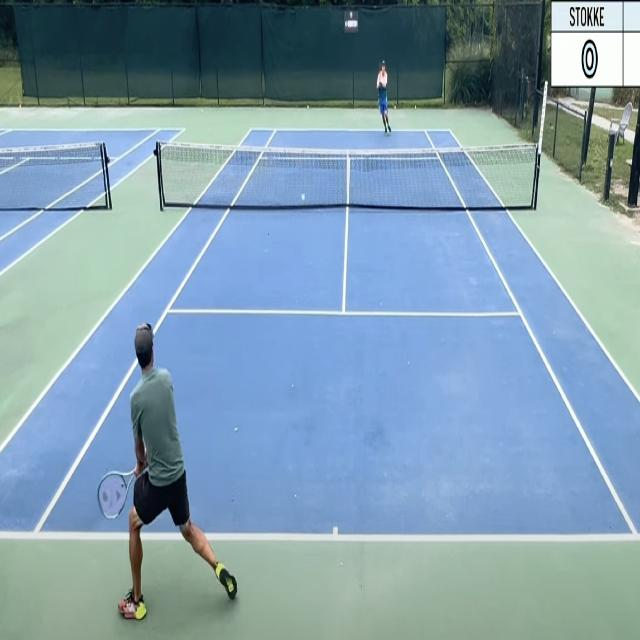ball: (301, 193, 305, 202), (307, 104, 309, 110), (414, 105, 416, 110), (394, 106, 396, 110)
